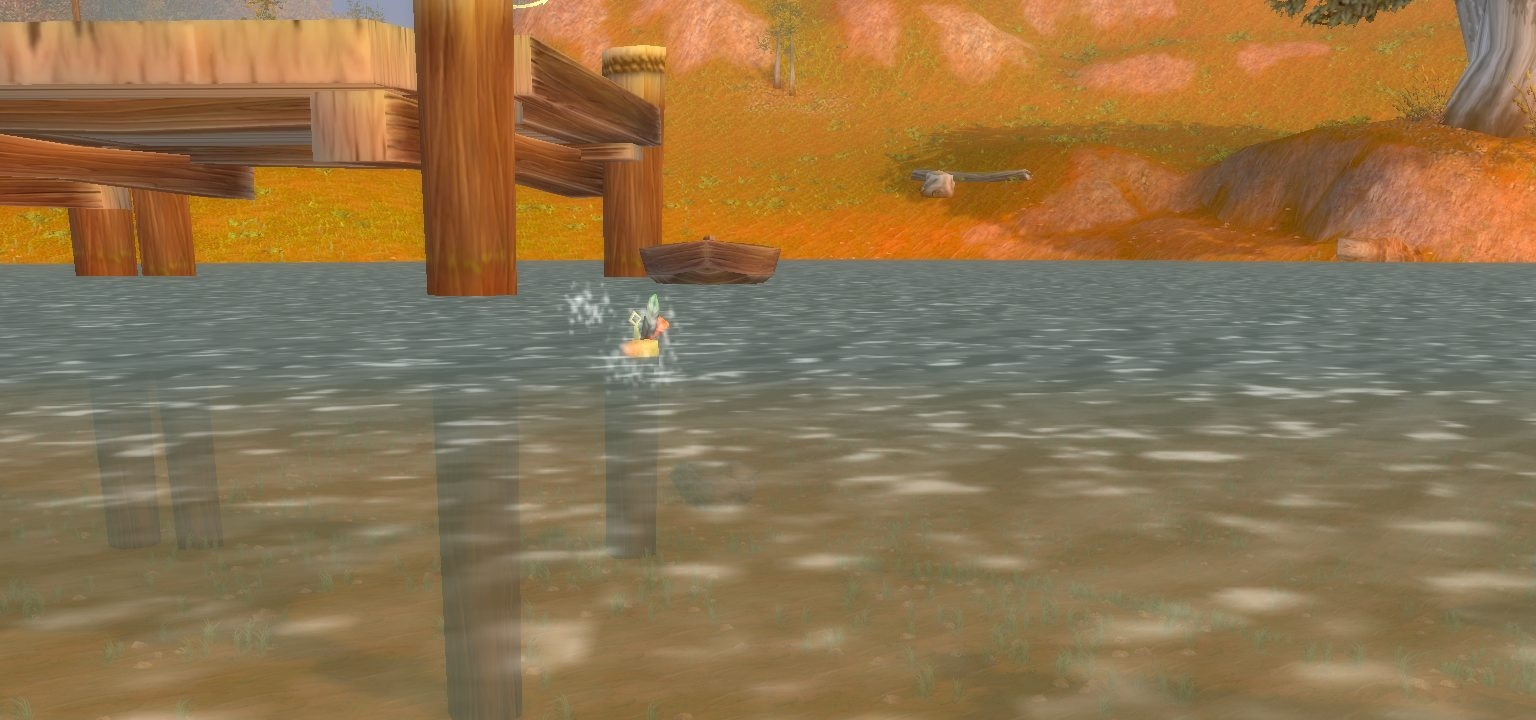Splash: (618, 295, 671, 358)
